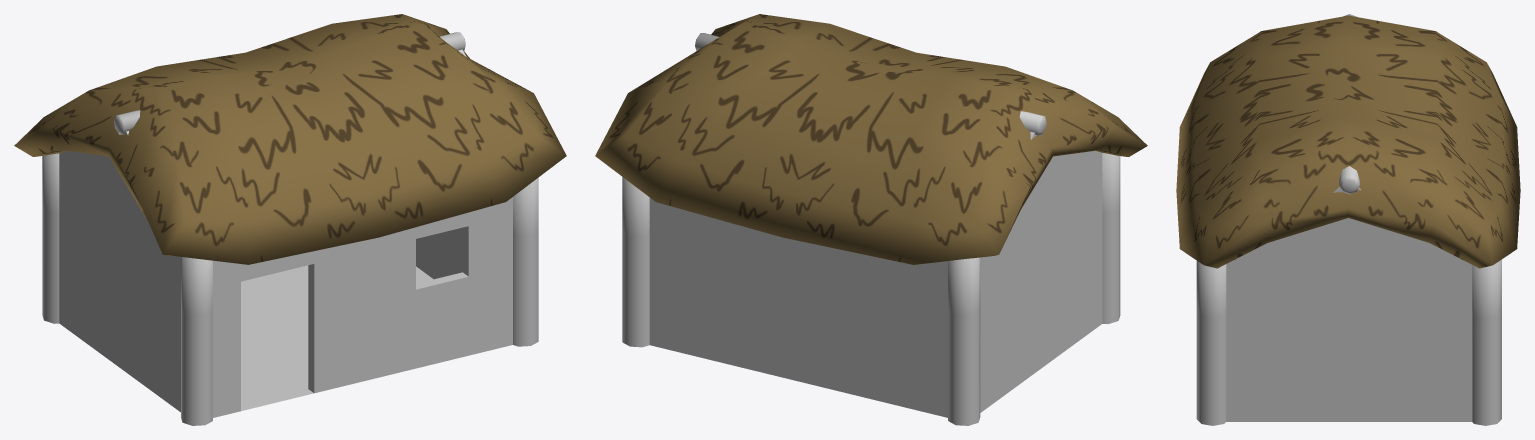
File: Cabana_Base.fbx
3 renders of one model, left to right at view 1: azimuth 30°, elevation 25°; view 2: azimuth 150°, elevation 25°; view 3: azimuth 270°, elevation 25°, orthographic. The views are drawn at different scales.
Visible parts, largest first — view 1: Cabana_Telhado, Cabana_Paredes, Cabana_Paus; view 2: Cabana_Telhado, Cabana_Paredes, Cabana_Paus; view 3: Cabana_Telhado, Cabana_Paredes, Cabana_Paus.
Boxes of the visible parts, box(x1,y1,x2,y2) form: Cabana_Telhado: box(14, 14, 566, 264); Cabana_Paredes: box(59, 49, 512, 417); Cabana_Paus: box(42, 32, 538, 425); Cabana_Telhado: box(595, 14, 1147, 264); Cabana_Paredes: box(649, 131, 1102, 417); Cabana_Paus: box(622, 33, 1120, 425); Cabana_Telhado: box(1176, 15, 1520, 268); Cabana_Paredes: box(1226, 187, 1472, 421); Cabana_Paus: box(1196, 14, 1501, 425).
Bounding box in the file's own units: 611 × 392 × 464.
